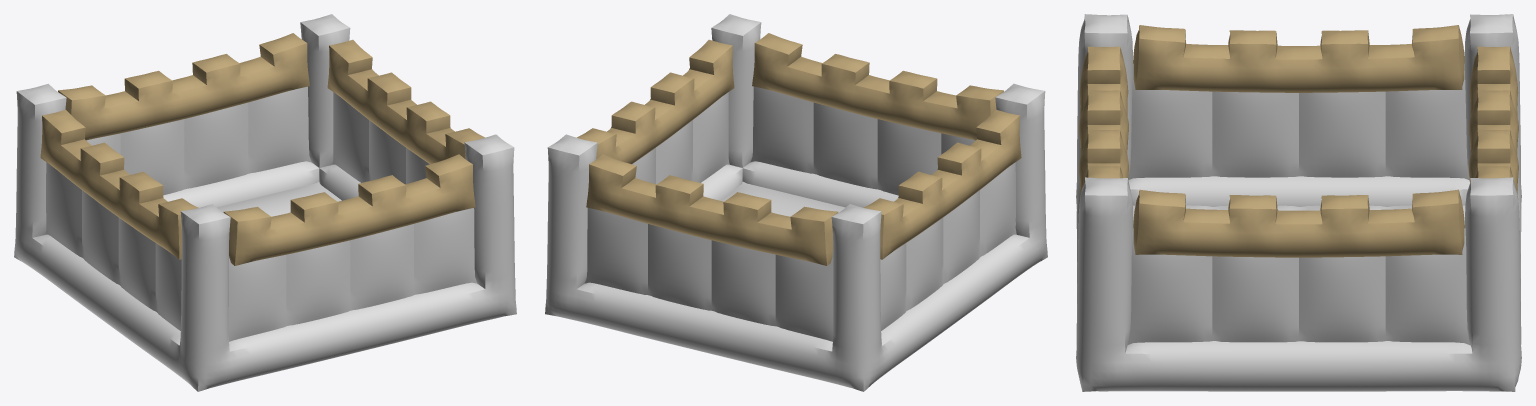
File: Cell1.fbx
3 views of the same model, side by side, from view 1: azimuth 30°, elevation 25°; view 2: azimuth 150°, elevation 25°; view 3: azimuth 270°, elevation 25° (orthographic). The views are drawn at different scales.
Parts seen in each view (by area): view 1: Cube.020, Cube.017, Cube.015, Cube.016, Cube.018, Cube.019; view 2: Cube.020, Cube.015, Cube.017, Cube.016, Cube.018, Cube.019; view 3: Cube.020, Cube.018, Cube.016, Cube.017, Cube.015, Cube.019.
Boxes of the visible parts, box(x1,y1,x2,y2) form: Cube.020: box(14, 14, 516, 391); Cube.017: box(223, 154, 477, 341); Cube.015: box(58, 33, 311, 195); Cube.016: box(40, 109, 198, 330); Cube.018: box(327, 39, 484, 184); Cube.019: box(217, 182, 341, 216); Cube.020: box(545, 14, 1047, 391); Cube.015: box(584, 154, 838, 341); Cube.017: box(750, 33, 1003, 195); Cube.016: box(863, 109, 1021, 330); Cube.018: box(577, 39, 734, 184); Cube.019: box(720, 181, 845, 216); Cube.020: box(1076, 14, 1521, 391); Cube.018: box(1127, 189, 1470, 345); Cube.016: box(1128, 25, 1469, 180); Cube.017: box(1079, 46, 1128, 199); Cube.015: box(1469, 46, 1518, 199); Cube.019: box(1133, 205, 1465, 224).
Size of the model in its own units: 1029 by 524 by 1029.
